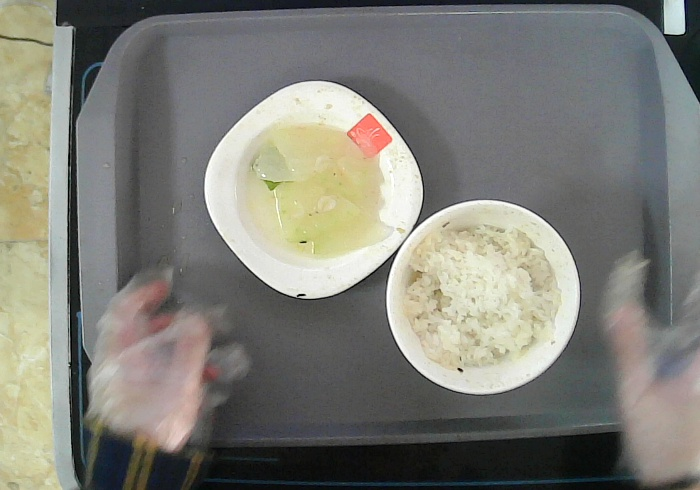SHKJ-Bai_Se_Si_Fang_Cai_Die: (196, 75, 435, 304)
SHKJ-Fan_Wan: (382, 194, 583, 400)
